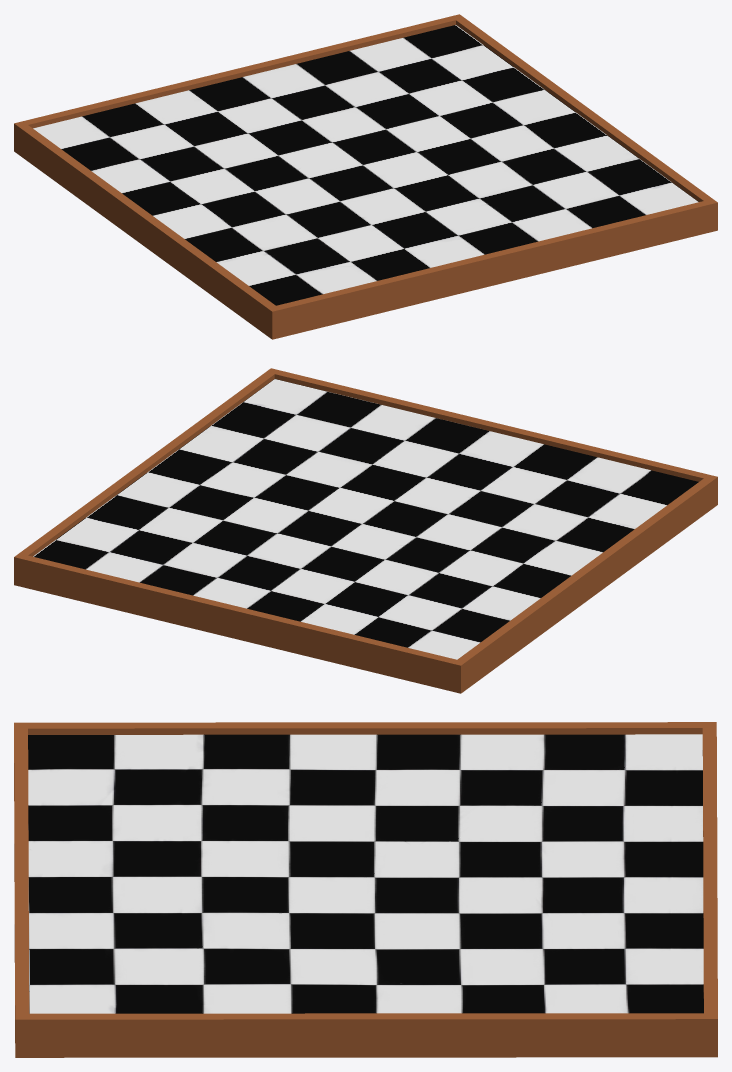
Rendered from chess_board.dae.
3 renders of one model, top to bottom at view 1: azimuth 30°, elevation 25°; view 2: azimuth 150°, elevation 25°; view 3: azimuth 270°, elevation 25°, orthographic. The views are drawn at different scales.
Parts seen in each view (by area): view 1: chess_board v2; view 2: chess_board v2; view 3: chess_board v2.
Part boxes in pixels (left/top/right/bottom): chess_board v2: left=14, top=14, right=717, bottom=339; chess_board v2: left=14, top=368, right=717, bottom=693; chess_board v2: left=14, top=722, right=717, bottom=1057.
Bounding box in the file's own units: 501 × 501 × 30.
Materials: 2 (1 with a texture image).
